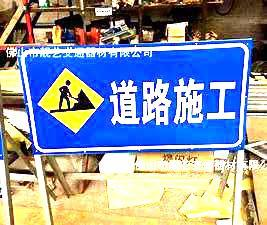sign: (20, 48, 245, 149)
